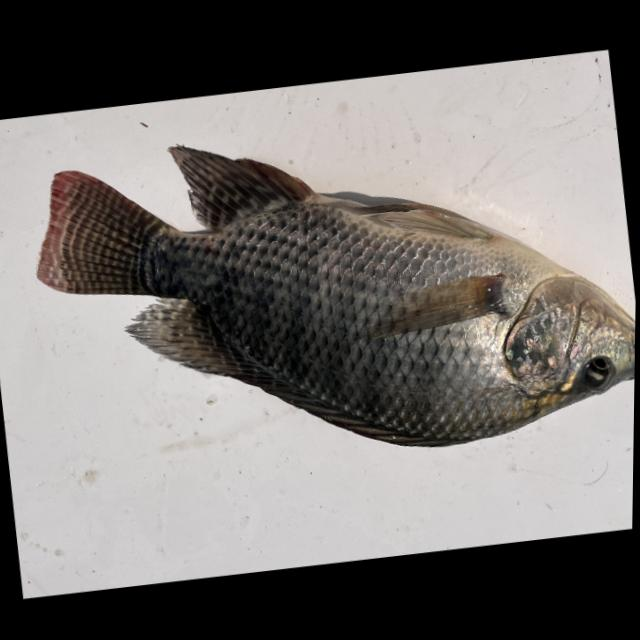Tilapia: (19, 84, 639, 497)
